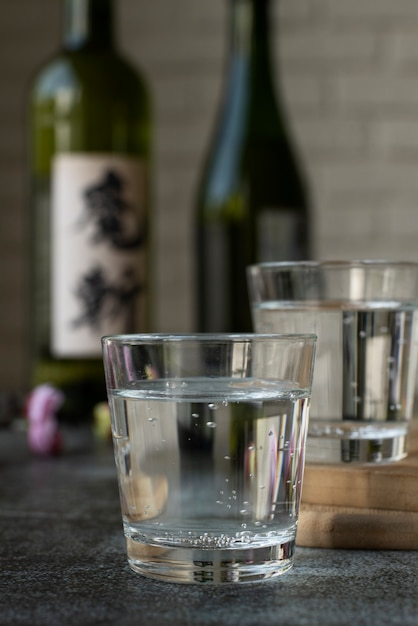alcohol: (19, 2, 157, 429), (103, 332, 314, 588), (186, 2, 310, 330), (246, 255, 418, 466)
